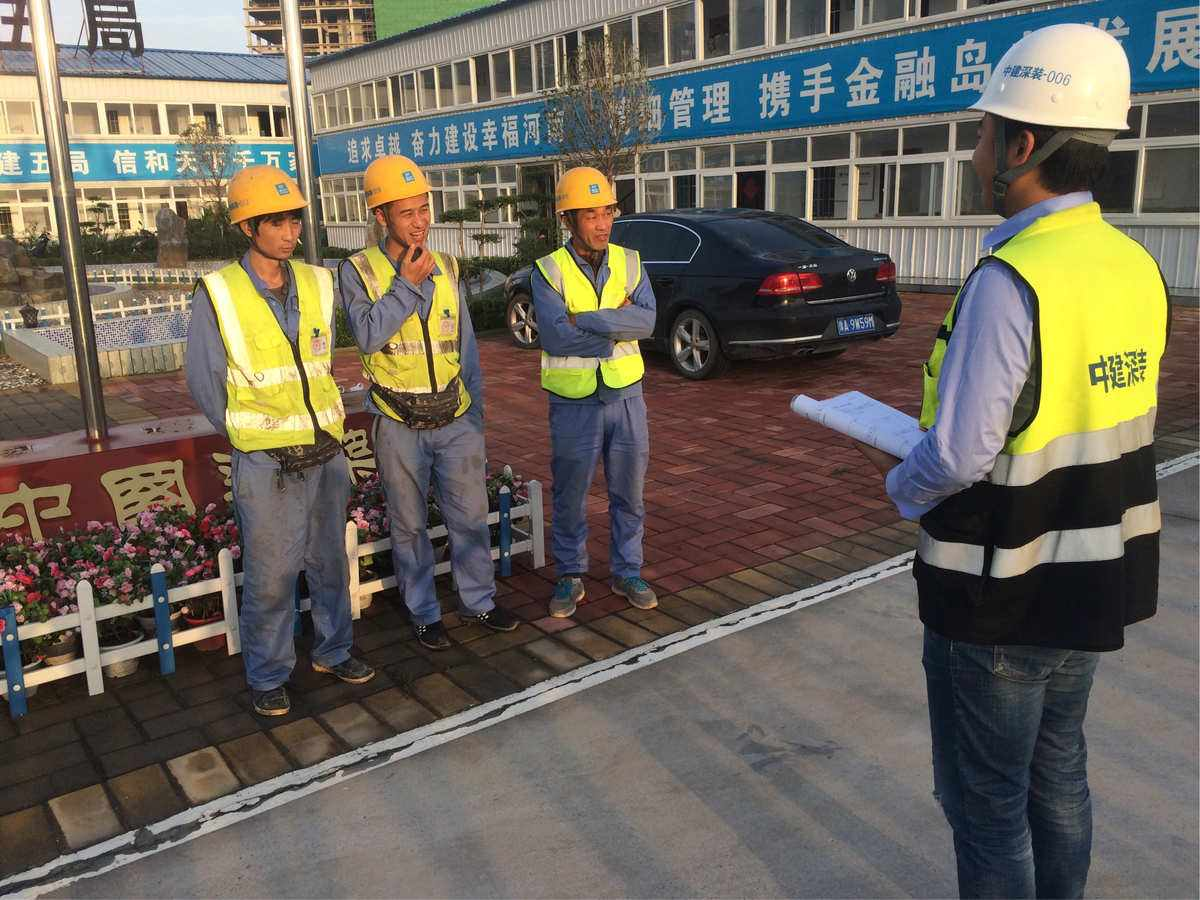person: (852, 20, 1172, 900), (183, 164, 380, 721), (339, 151, 521, 651), (529, 163, 660, 622)
reflective_vest: (910, 202, 1171, 652), (194, 257, 347, 452), (337, 244, 473, 429), (531, 242, 647, 402)
safety_helmet: (965, 20, 1136, 215), (222, 162, 310, 260), (361, 151, 433, 249), (551, 163, 624, 256)
